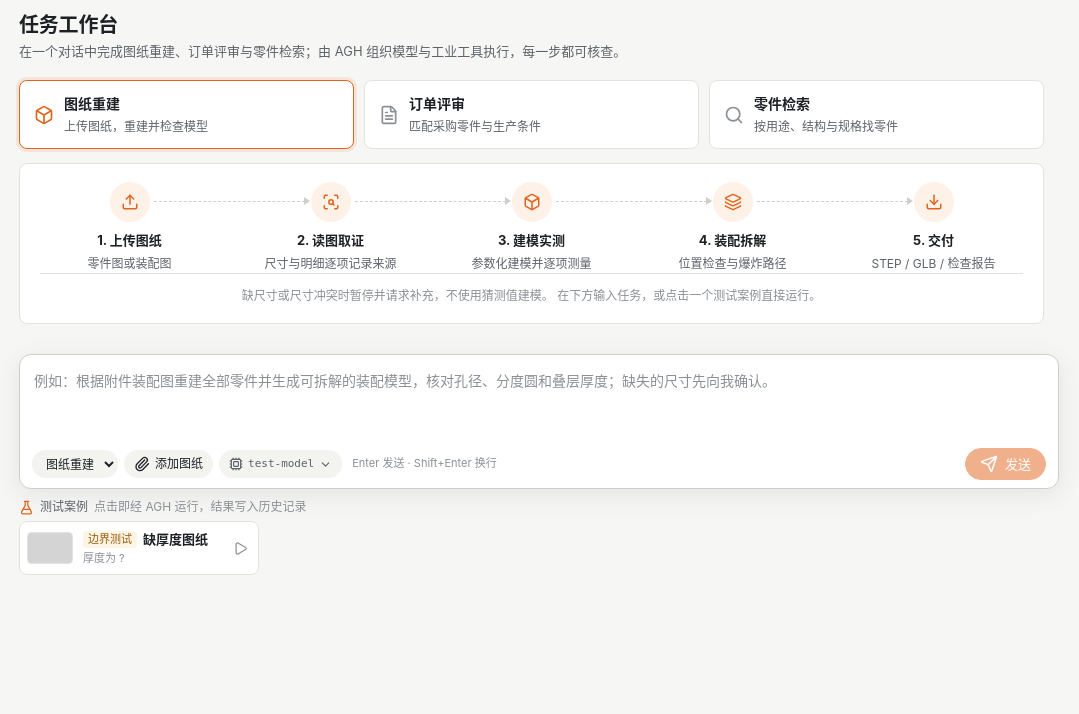
TaskWorkspace input and execution evidence › renders Markdown answers as tables and offers the per-task AGH record export
The image size is (1079, 714).
Step 1. Select "零件检索" in the dropdown named "任务类型" → (75, 464), box 32,450 -> 118,478
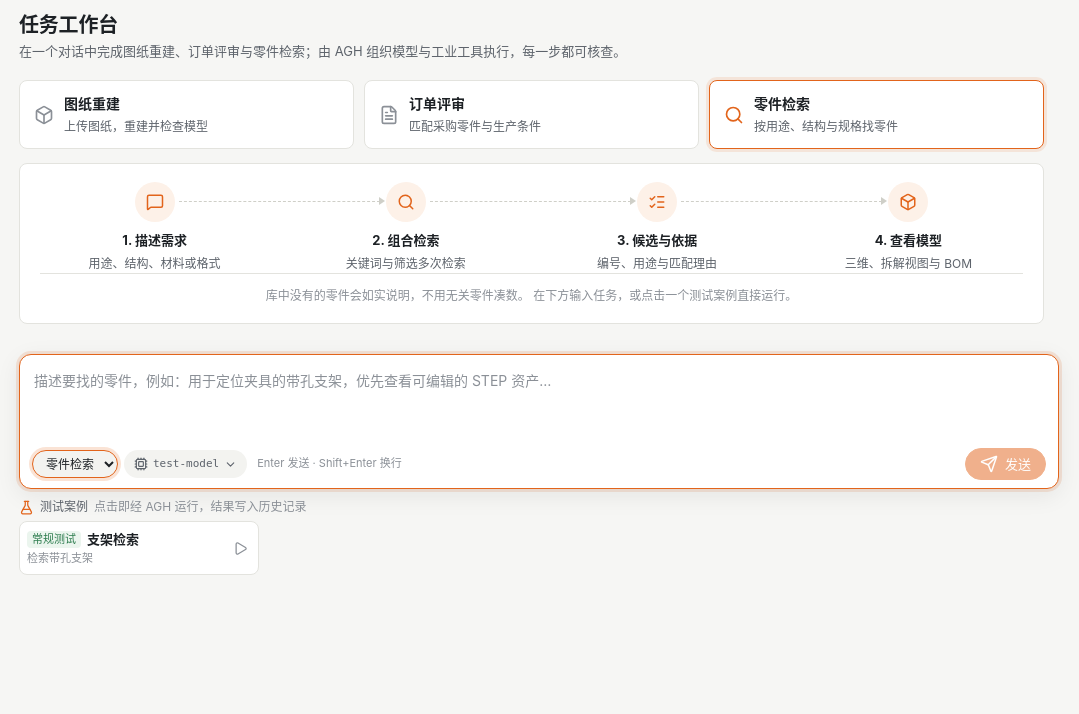
Step 2. Type "查找定位支架" into the text box named "这次需要完成什么？" → (539, 403), box 32,365 -> 1046,442
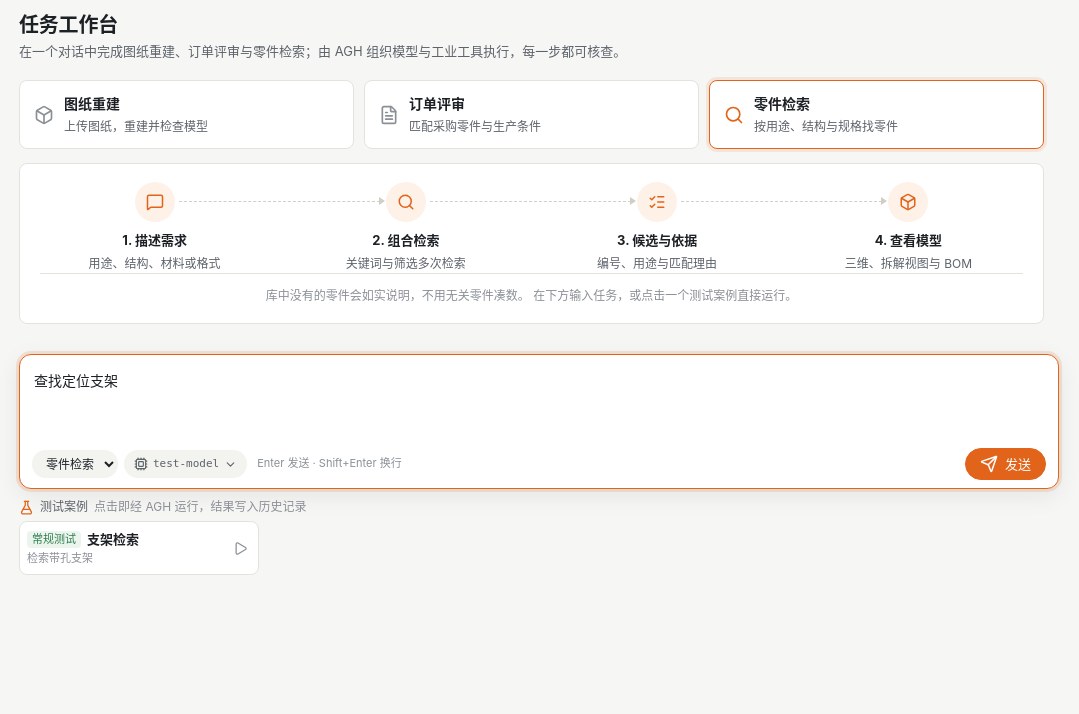
Step 3. Click the button with aria-label "开始任务" → (1006, 464), box 965,448 -> 1046,480
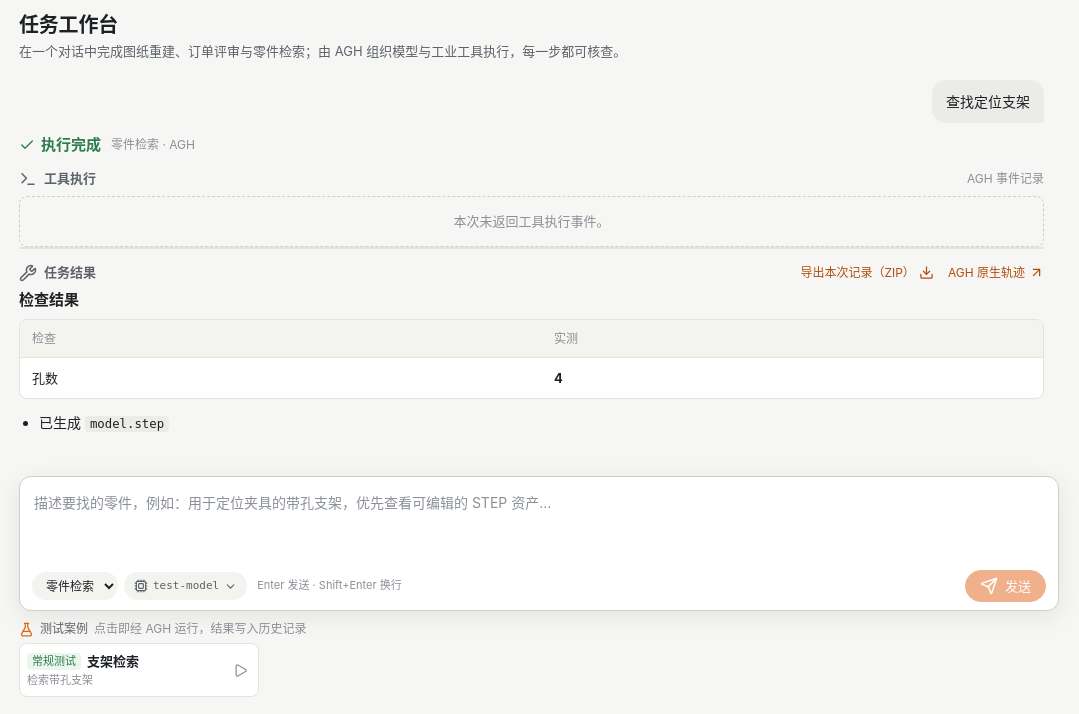
Expected: the table shows "孔数", 32,370 -> 58,386
Expected: the heading "检查结果" is shown, 19,290 -> 79,309
